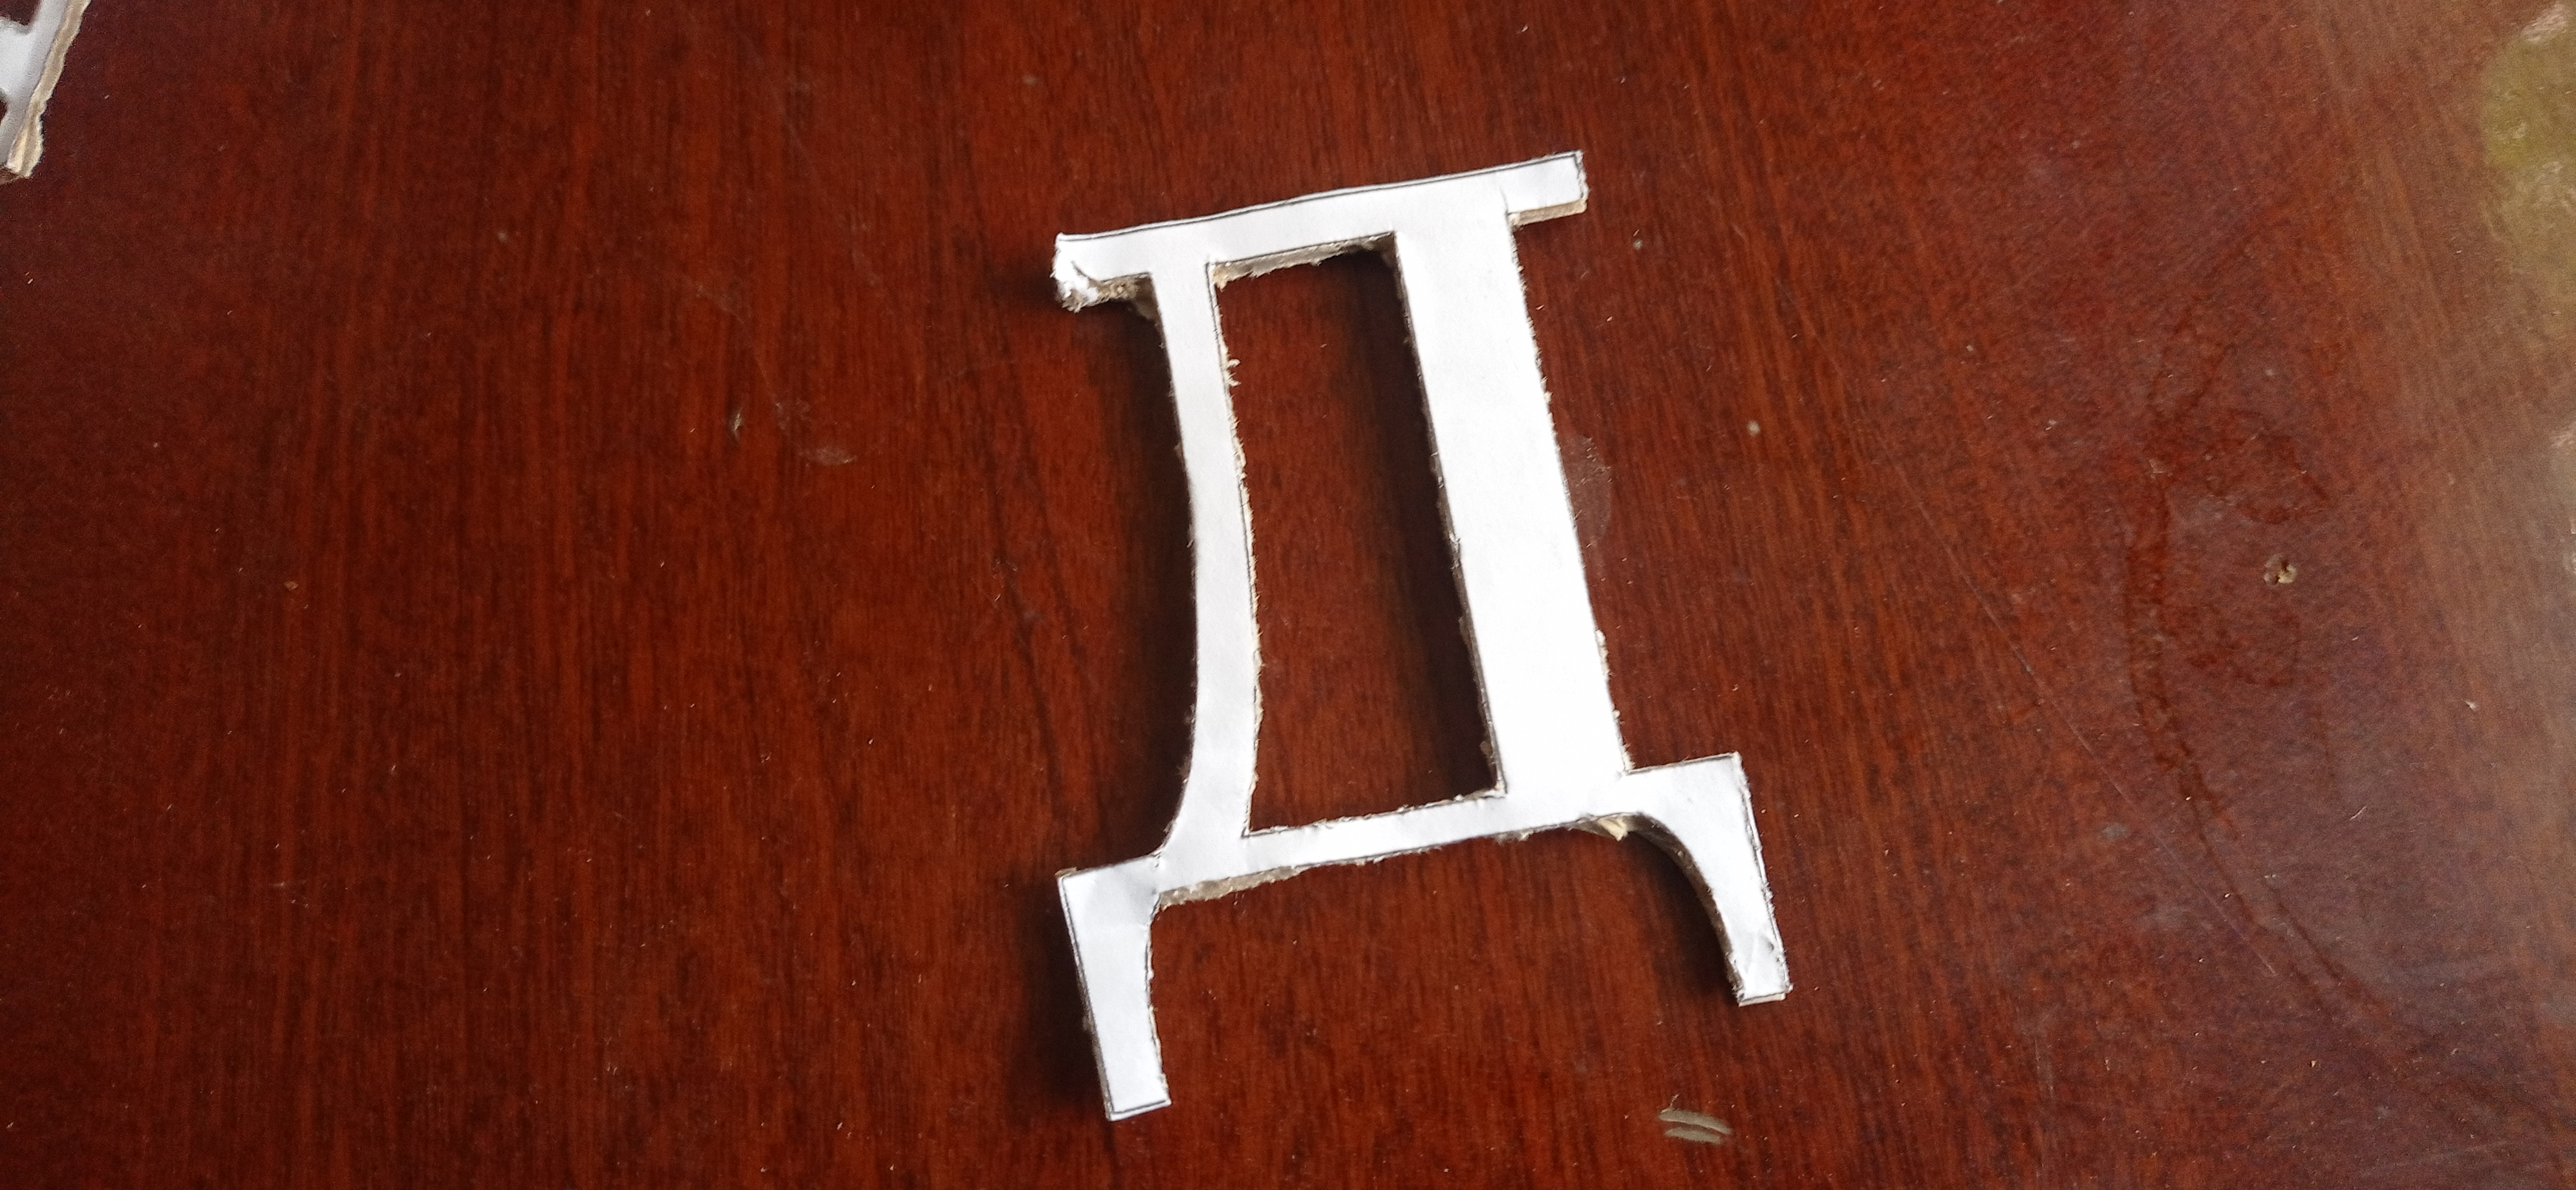d: (1010, 148, 1801, 1121)
